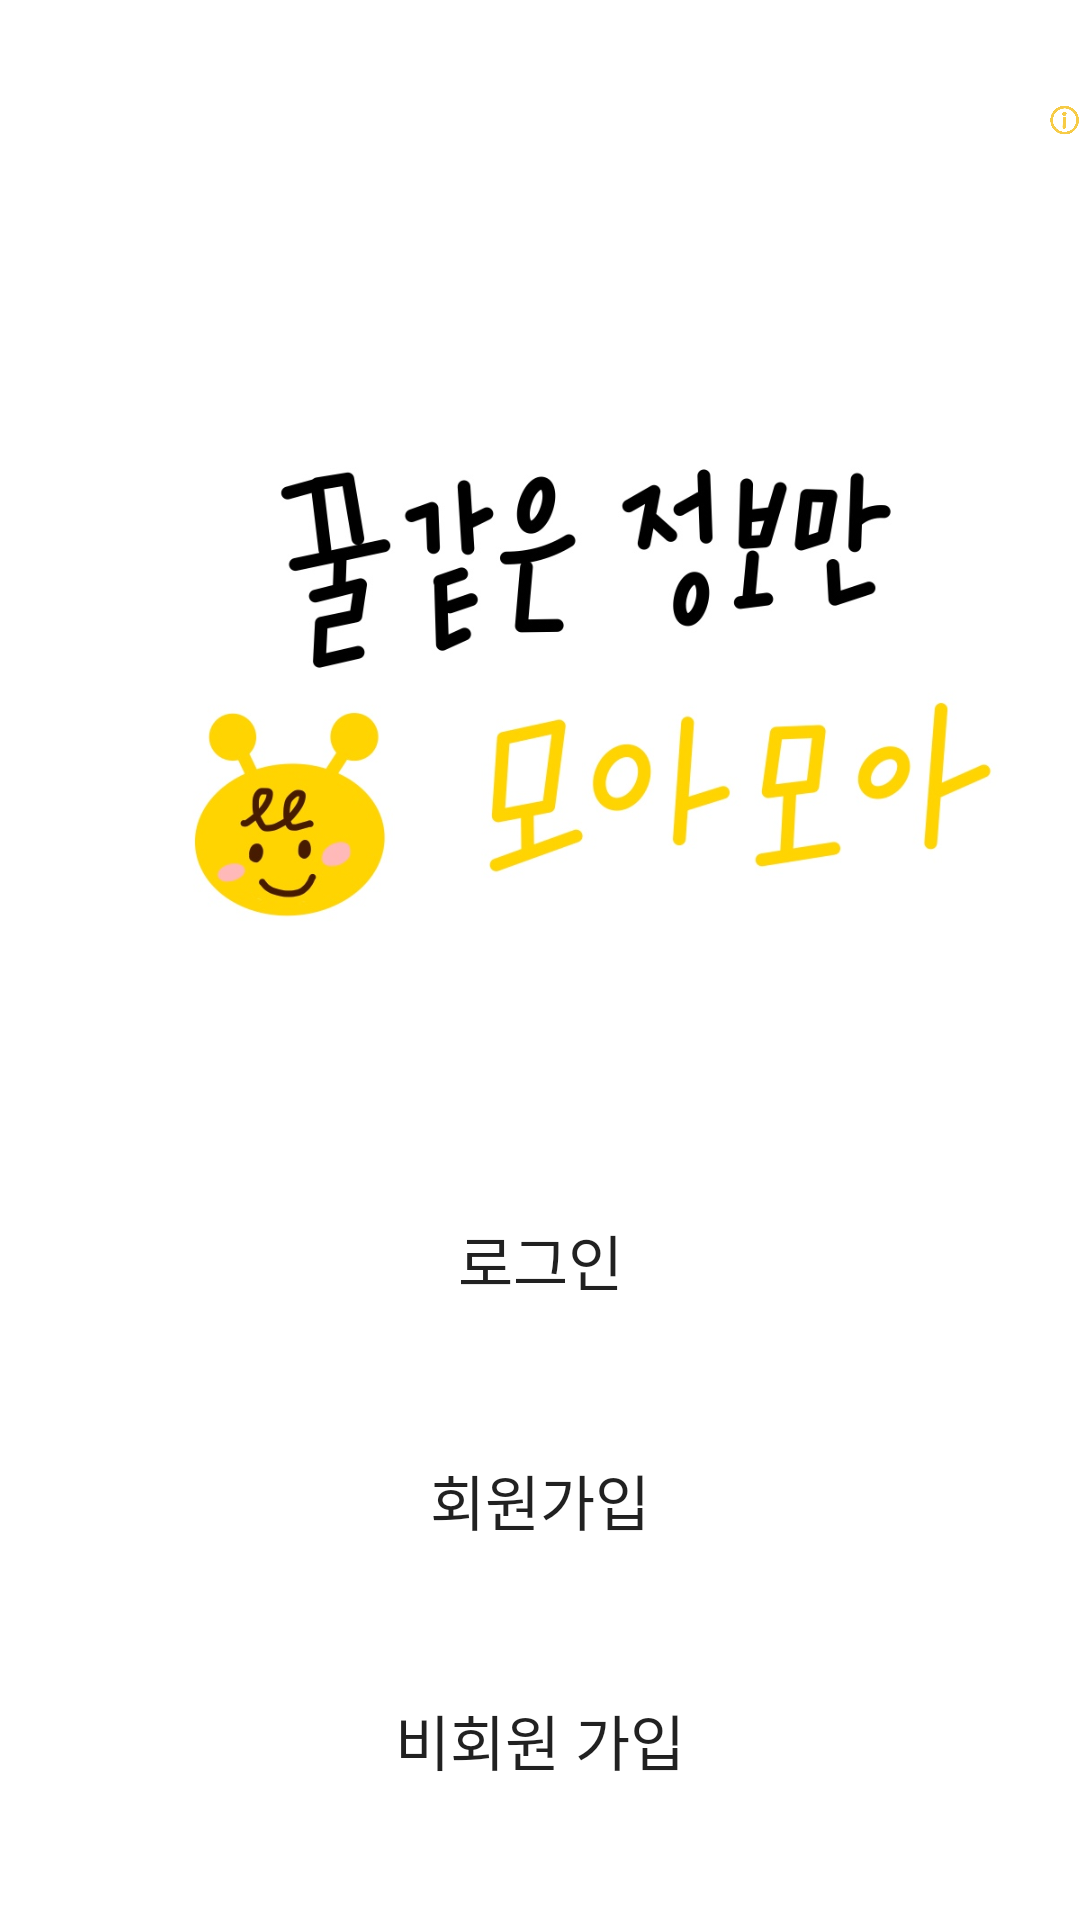

Icon bounding boxes for this 1080 x 1920 phone screenshot, format (x1, y1, x2, y2):
info: (1050, 106, 1079, 134)
